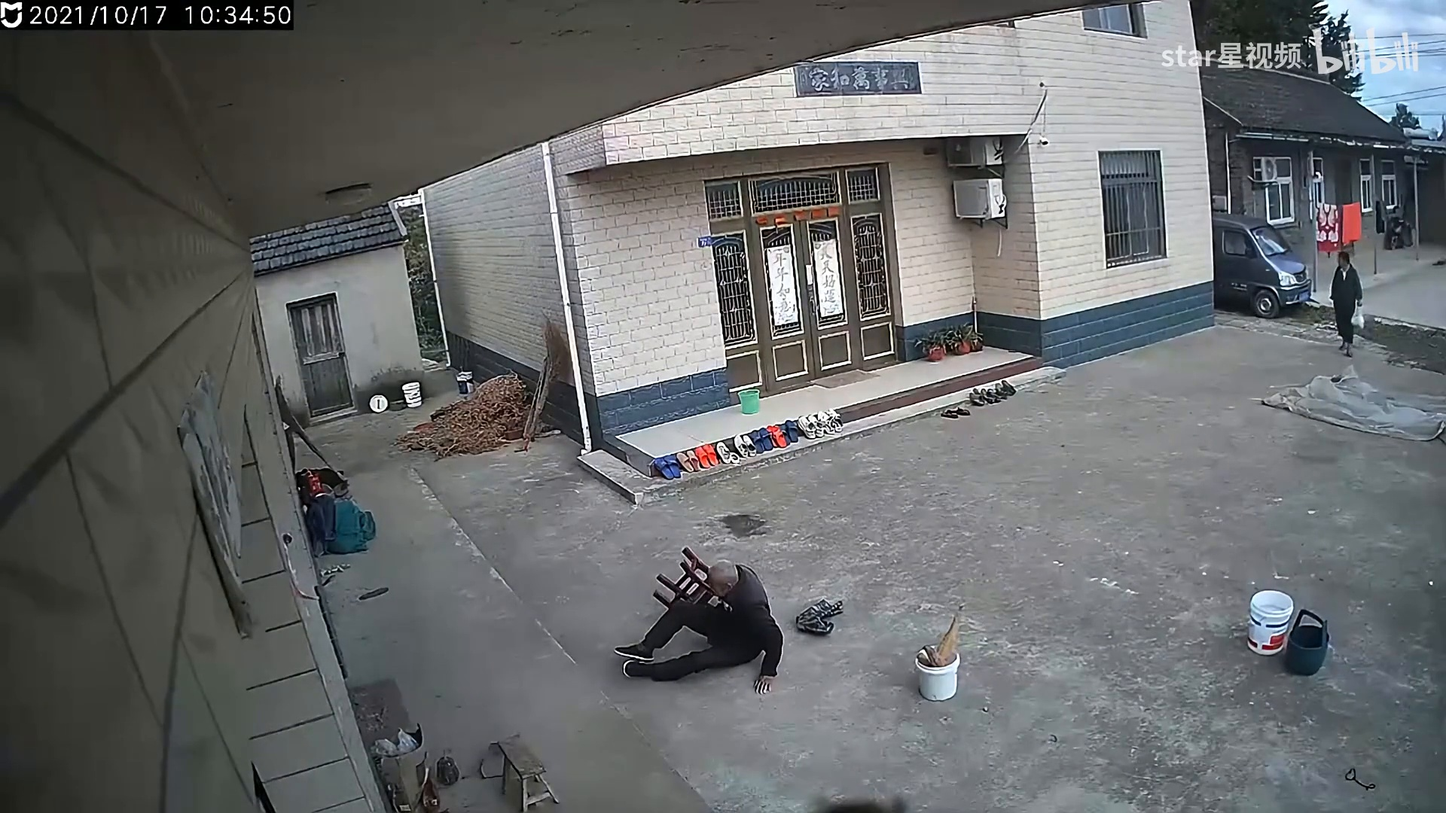half_up: (612, 554, 783, 693)
stand: (1330, 250, 1365, 356)
